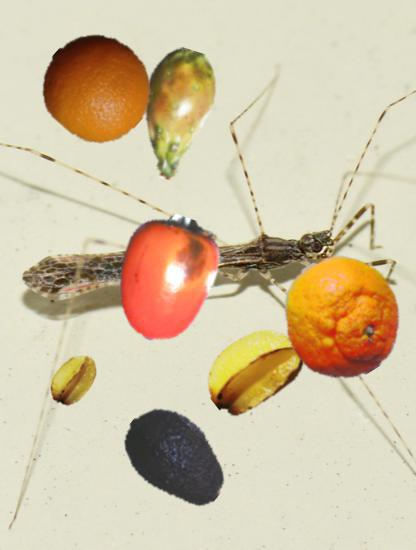Avocado: (119, 401, 233, 515)
Cactus: (109, 48, 240, 179)
Carambula: (202, 319, 304, 421), (46, 352, 102, 408)
Kaki: (102, 214, 231, 343)
Mandarine: (280, 256, 403, 379)
Orange: (43, 33, 152, 142)
